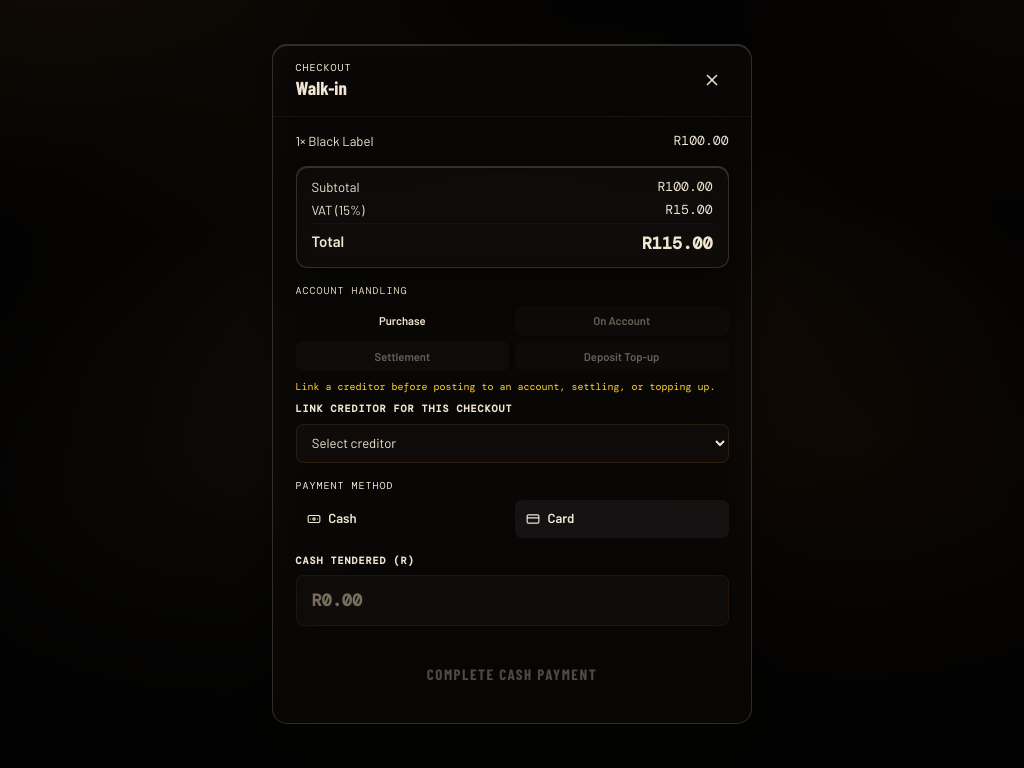
Scenario: PaymentModal › keeps settlement and top-up closed until a creditor is linked
expect the button "Settlement" is disabled: met, box [296,341,509,371]
expect the button "Deposit Top-up" is disabled: met, box [515,341,728,371]
Select "Alex" in the dropdown labelled "Link Creditor For This Checkout" at (512, 443), box [296,424,728,463]
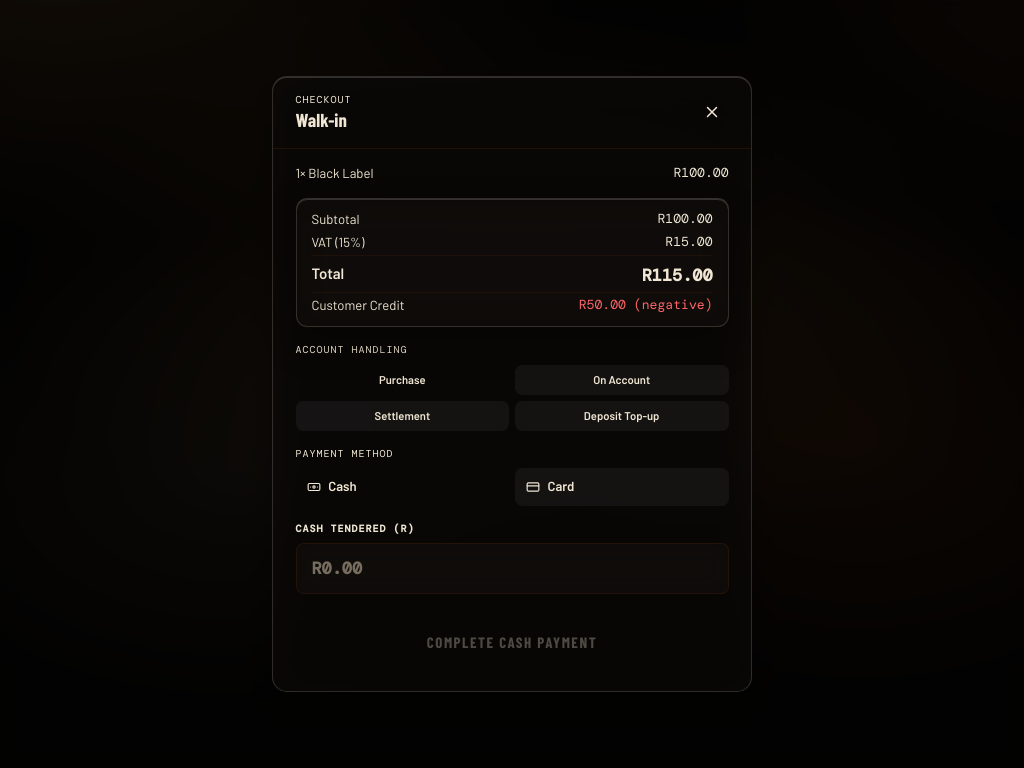
expect the button "Settlement" is enabled: met, box [296,400,509,430]
expect the button "Deposit Top-up" is enabled: met, box [515,400,728,430]
